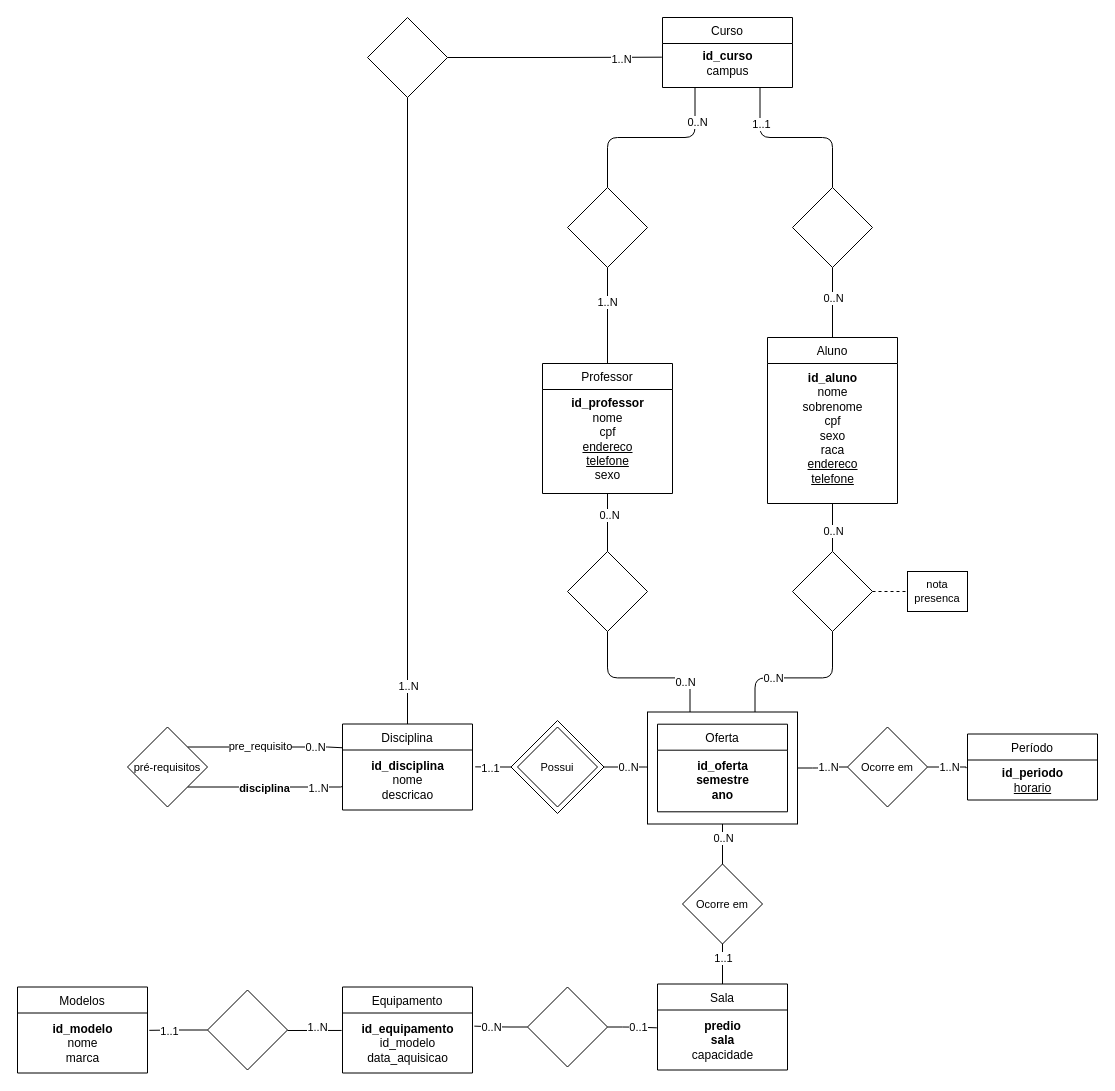
The diagram is 1115 pixels wide and 1091 high, and some of its shapes have lost their labels. Here are the shapes that lost their labels. From the top down, the centre of each, then its label:
At (407,57): "Composto".
At (607,227): "Leciona".
At (832,227): "Matriculado".
At (607,591): "Ministra".
At (832,591): "Cursa".
At (247,1029): "pertence a".
At (567,1026): "está em".
